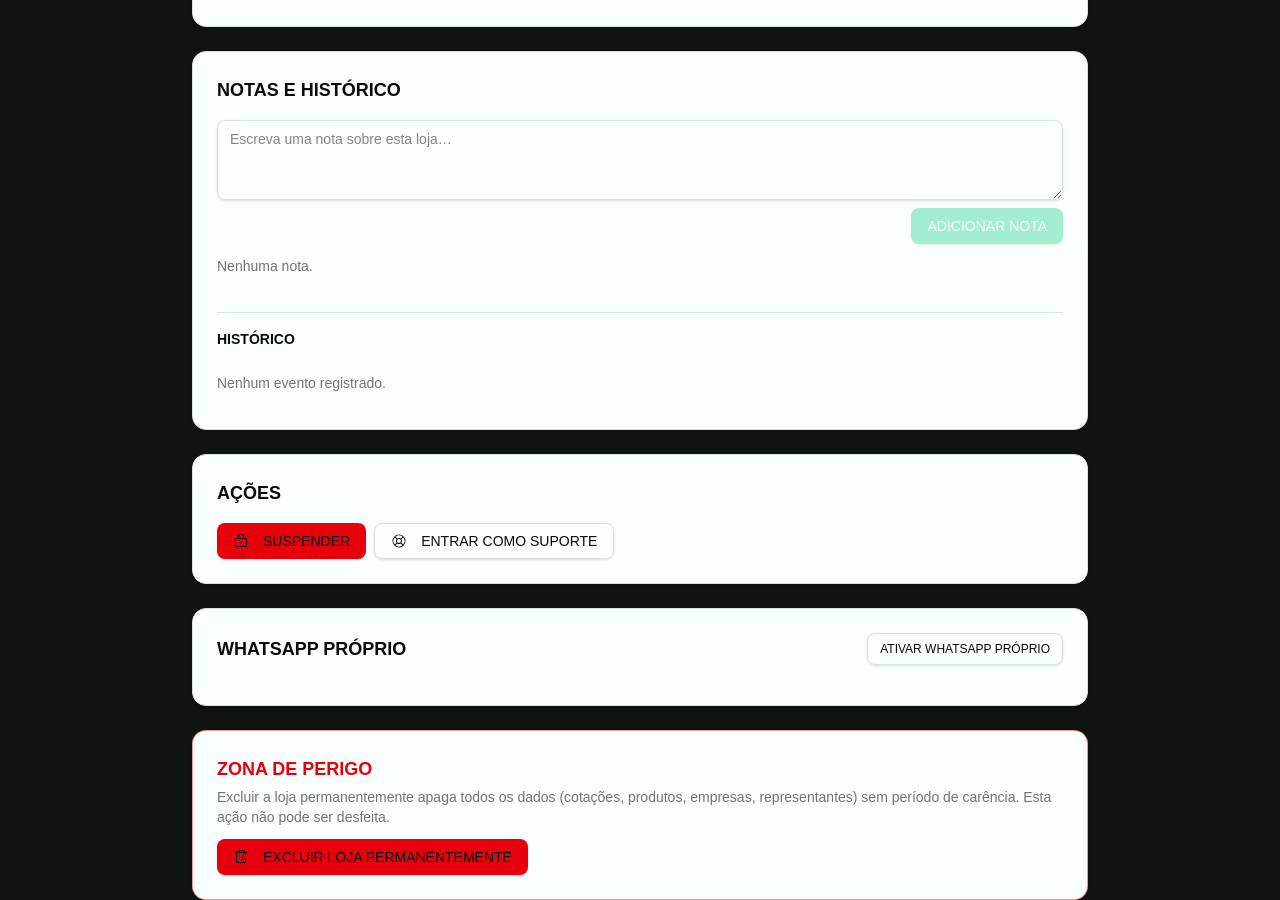
Scenario: CompradorDetalhePage › erro do backend aparece na tela
This screenshot has width=1280, height=900.
(page scrolled)
Click the button "Suspender": (292, 541) [217,523,366,559]
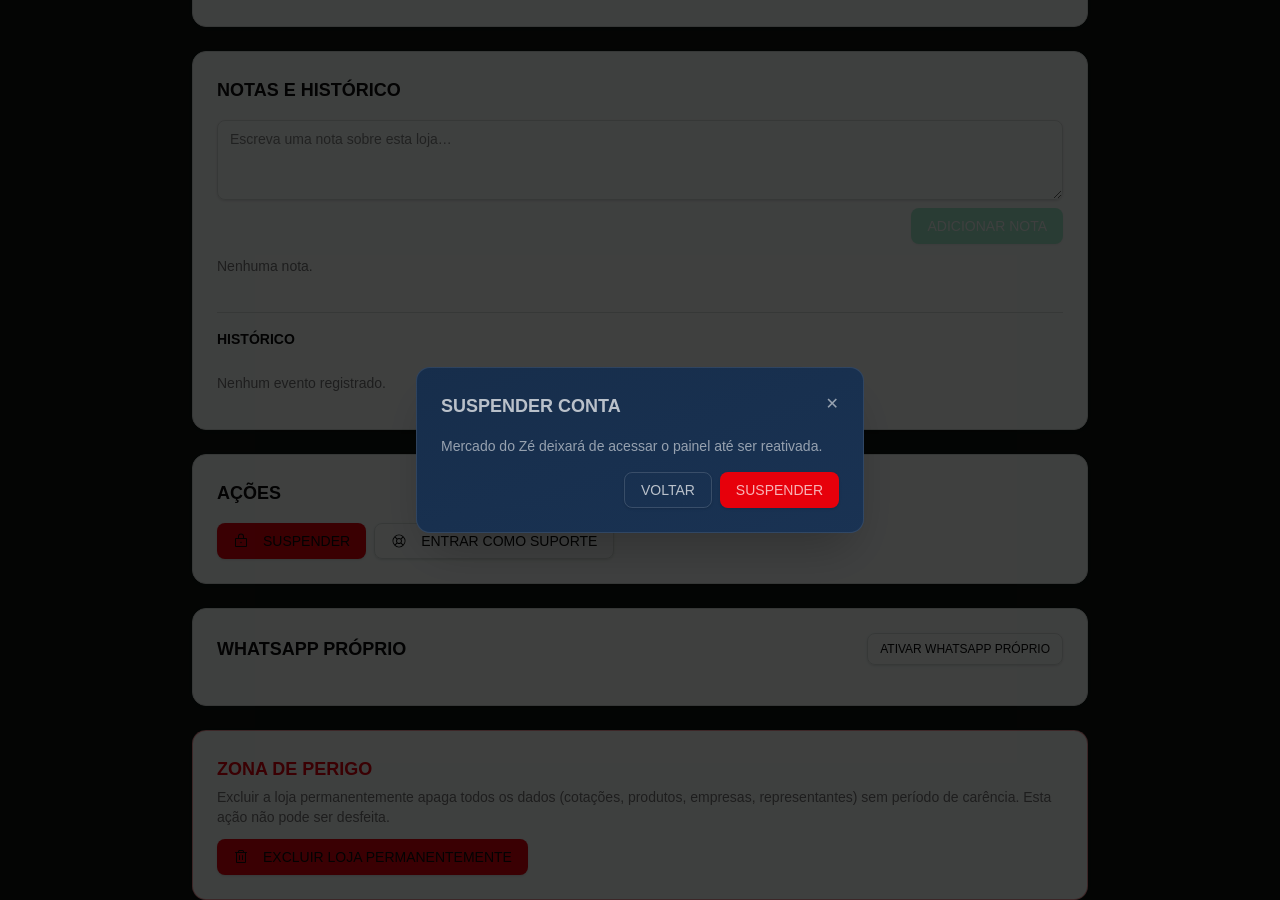
Click the button "Suspender": (779, 490) [720,472,839,508]
(page scrolled)
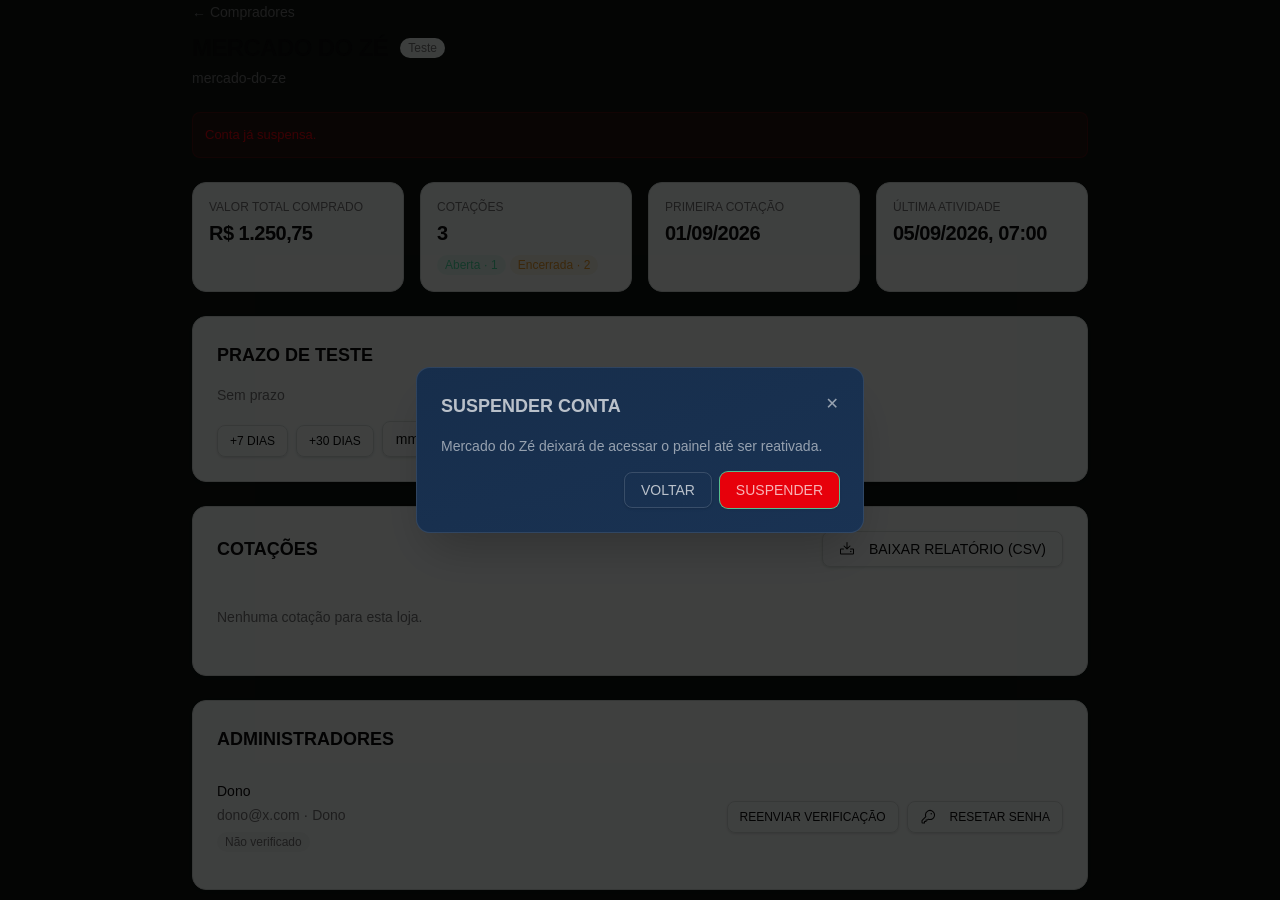
Expected: the text "Conta já suspensa." is shown, [192,112,1088,158]
